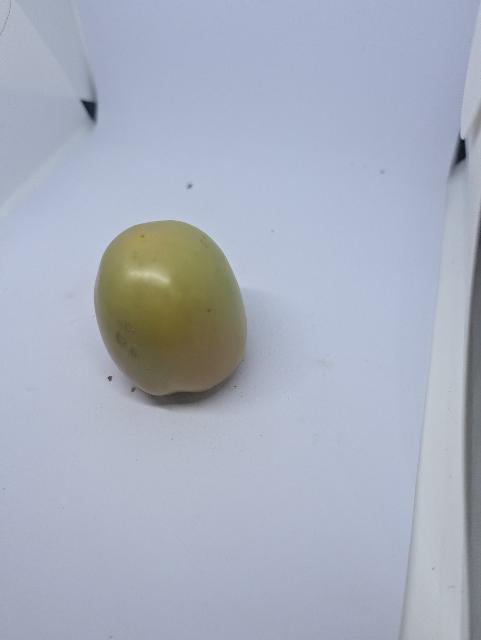breaker: (94, 221, 247, 395)
